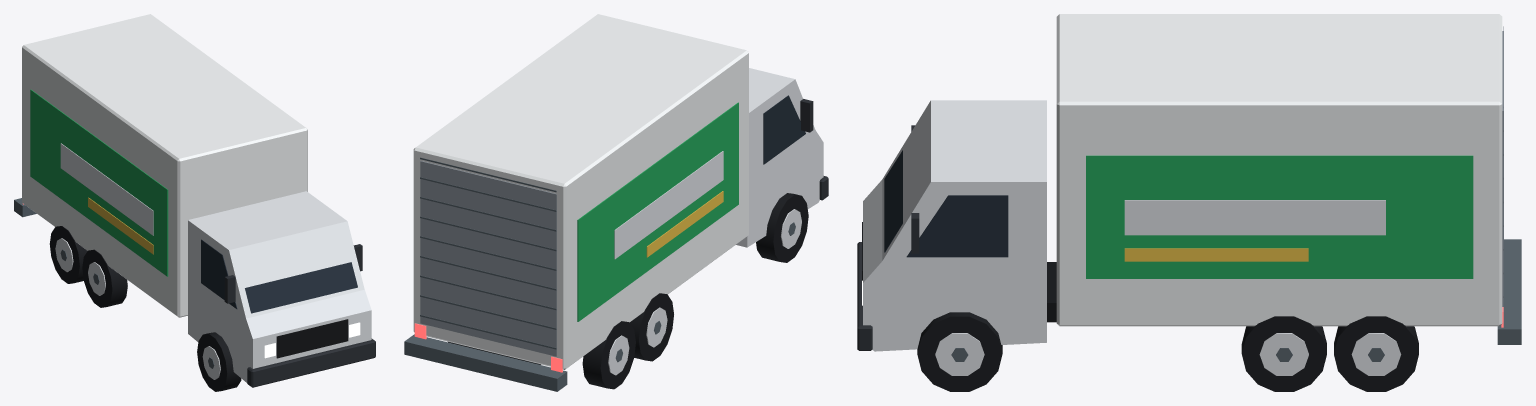
The model's file is box_truck.glb.
3 views of the same model, side by side, from view 1: azimuth 30°, elevation 25°; view 2: azimuth 150°, elevation 25°; view 3: azimuth 270°, elevation 25° (orthographic). The views are drawn at different scales.
Parts seen in each view (by area): view 1: box_truck; view 2: box_truck; view 3: box_truck.
Part boxes in pixels (x1=…): box_truck: x1=14, y1=14, x2=375, y2=391; box_truck: x1=404, y1=14, x2=828, y2=391; box_truck: x1=857, y1=14, x2=1521, y2=391.
Bounding box in the file's own units: 2.28 × 3.29 × 6.86.
